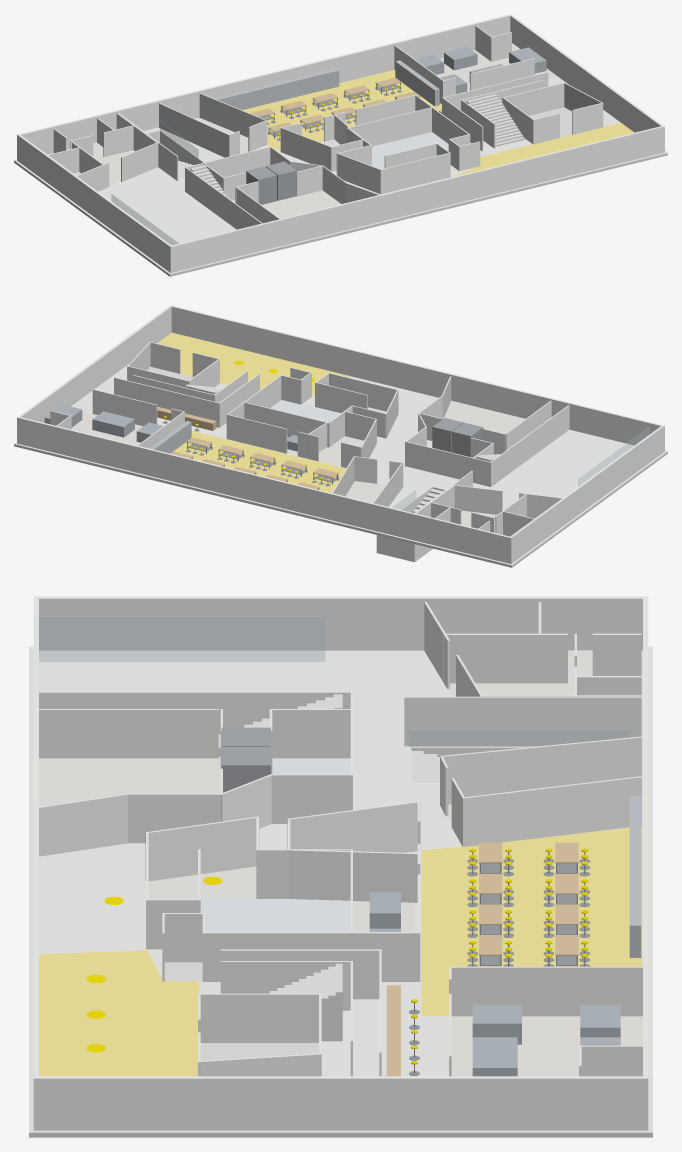
File: makerspace-floor.glb
3 renders of one model, top to bottom at view 1: azimuth 30°, elevation 25°; view 2: azimuth 150°, elevation 25°; view 3: azimuth 270°, elevation 25°, orthographic. The views are drawn at different scales.
Parts seen in each view (by area): view 1: Makerspace floor - walls & stairs, Makerspace floor, Makerspace floor - furniture, Makerspace A floor, Makerspace B floor, Room floor (×2), Toilets floor, Machine shop floor, Administration office floor; view 2: Makerspace floor - walls & stairs, Makerspace floor, Makerspace floor - furniture, Makerspace B floor, Makerspace A floor, Room floor, Toilets floor, Machine shop floor, Conference room floor, Thematic workshop floor; view 3: Makerspace floor - walls & stairs, Makerspace floor, Makerspace A floor, Makerspace floor - furniture, Makerspace B floor, Room floor (×2), Machine shop floor, Toilets floor, Dreamchamber floor, Lavatory 1 floor, Administration office floor, Laser cutting room floor (+1 smaller).
Boxes of the visible parts, x1,y1,x2,y2 form: Makerspace floor - walls & stairs: [17, 14, 664, 272]; Makerspace floor: [14, 71, 667, 276]; Makerspace floor - furniture: [213, 47, 546, 140]; Makerspace A floor: [242, 70, 441, 151]; Makerspace B floor: [452, 123, 633, 176]; Room floor (×2): [262, 107, 571, 218]; Toilets floor: [372, 132, 448, 169]; Machine shop floor: [436, 43, 557, 91]; Administration office floor: [96, 150, 134, 186]; Makerspace floor - walls & stairs: [17, 305, 664, 563]; Makerspace floor: [14, 364, 667, 567]; Makerspace floor - furniture: [44, 360, 339, 489]; Makerspace B floor: [157, 332, 349, 395]; Makerspace A floor: [174, 431, 346, 492]; Room floor: [443, 400, 525, 433]; Toilets floor: [270, 400, 340, 421]; Machine shop floor: [71, 411, 142, 445]; Conference room floor: [345, 481, 385, 502]; Thematic workshop floor: [319, 436, 363, 466]; Makerspace floor - walls & stairs: [33, 596, 648, 1130]; Makerspace floor: [29, 646, 652, 1137]; Makerspace A floor: [421, 826, 642, 1015]; Makerspace floor - furniture: [86, 795, 641, 1076]; Makerspace B floor: [39, 950, 199, 1076]; Room floor (×2): [39, 757, 318, 1060]; Machine shop floor: [451, 1016, 642, 1076]; Toilets floor: [200, 898, 350, 931]; Dreamchamber floor: [148, 866, 256, 899]; Lavatory 1 floor: [272, 758, 350, 774]; Administration office floor: [449, 682, 574, 696]; Laser cutting room floor: [353, 902, 414, 931].
Size of the model in its own units: 64.15 by 6.4 by 34.8.
